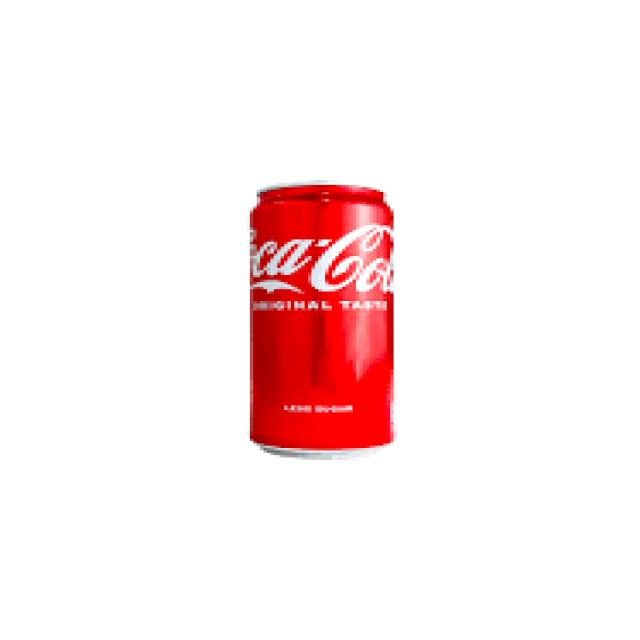Cans: (236, 178, 411, 462)
